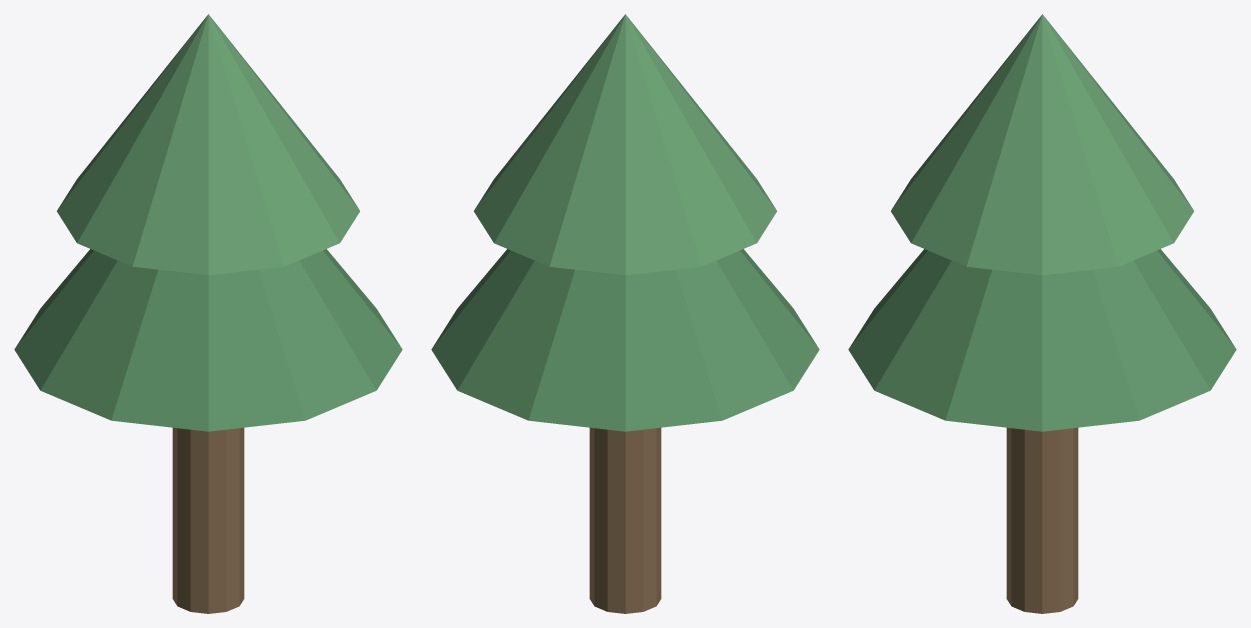
The model's file is small_dead_tree.glb.
3 renders of one model, left to right at view 1: azimuth 30°, elevation 25°; view 2: azimuth 150°, elevation 25°; view 3: azimuth 270°, elevation 25°, orthographic.
Visible parts, largest first — view 1: tree_0_1, tree_0_2, tree_0_0; view 2: tree_0_1, tree_0_2, tree_0_0; view 3: tree_0_1, tree_0_2, tree_0_0.
Part boxes in pixels (bbox=[...]): tree_0_1: bbox=[14, 249, 402, 431]; tree_0_2: bbox=[57, 14, 359, 275]; tree_0_0: bbox=[172, 427, 244, 613]; tree_0_1: bbox=[431, 249, 819, 431]; tree_0_2: bbox=[474, 14, 776, 275]; tree_0_0: bbox=[589, 427, 661, 613]; tree_0_1: bbox=[848, 249, 1236, 431]; tree_0_2: bbox=[891, 14, 1193, 275]; tree_0_0: bbox=[1006, 427, 1078, 613].
Size of the model in its own units: 1.59 by 2.65 by 1.59.
